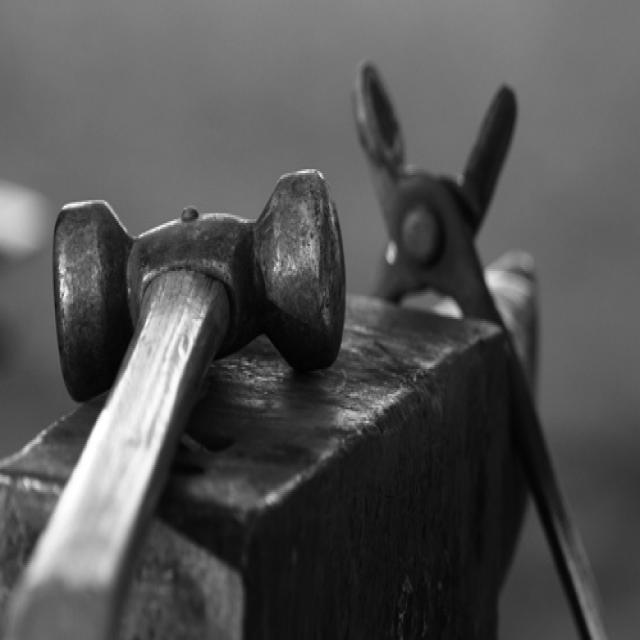hammer: (0, 155, 355, 640)
